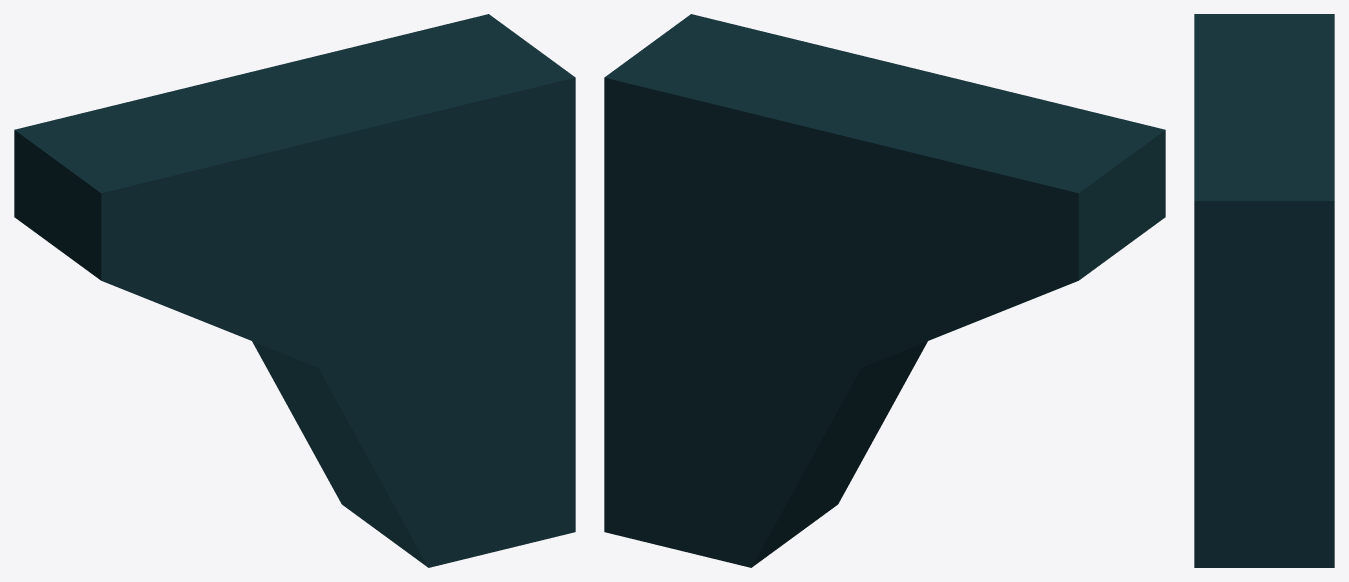
Rendered from WP_A23_gallery_support_v02.glb.
The picture shows the model from 3 angles, left to right: view 1: azimuth 30°, elevation 25°; view 2: azimuth 150°, elevation 25°; view 3: azimuth 270°, elevation 25°; orthographic projection. The views are drawn at different scales.
Parts seen in each view (by area): view 1: Corbel; view 2: Corbel; view 3: Corbel.
Part boxes in pixels (box(x1,y1,x2,y2)): Corbel: box(14, 14, 575, 567); Corbel: box(604, 14, 1165, 567); Corbel: box(1194, 14, 1334, 567).
Bounding box in the file's own units: 1.42 × 1.3 × 0.45.
